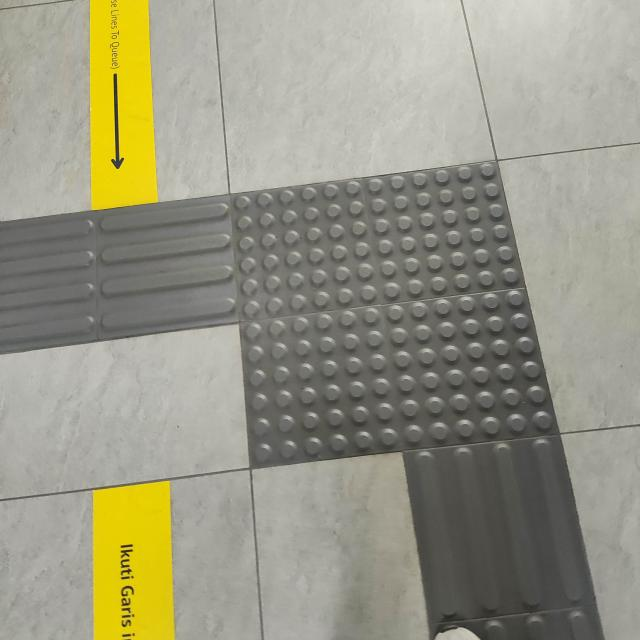kiri: (9, 133, 640, 533)
